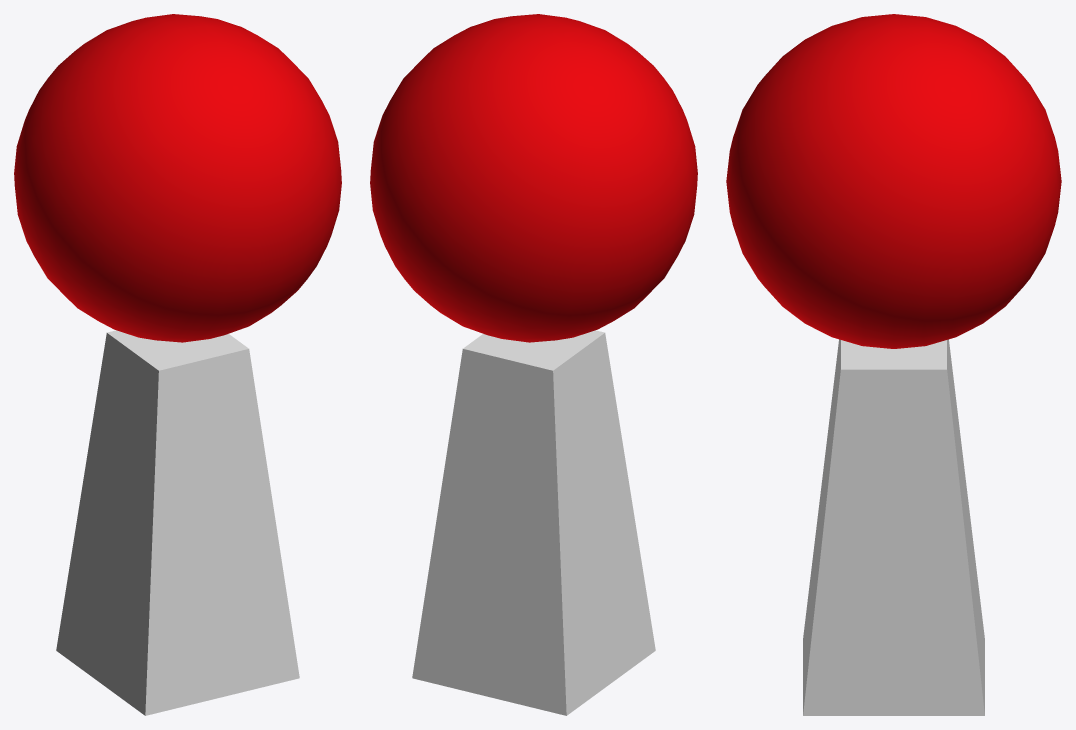
Rendered from sphrer.fbx.
The picture shows the model from 3 angles, left to right: view 1: azimuth 30°, elevation 25°; view 2: azimuth 150°, elevation 25°; view 3: azimuth 270°, elevation 25°; orthographic projection. The views are drawn at different scales.
Parts seen in each view (by area): view 1: Cube.001, Cube; view 2: Cube.001, Cube; view 3: Cube.001, Cube.
Part boxes in pixels (<box>): Cube.001: <box>14,14,341,342</box>; Cube: <box>56,330,299,715</box>; Cube.001: <box>370,14,697,342</box>; Cube: <box>412,330,655,715</box>; Cube.001: <box>726,14,1061,348</box>; Cube: <box>803,339,984,715</box>.
Bounding box in the file's own units: 93.17 × 199 × 93.17.
